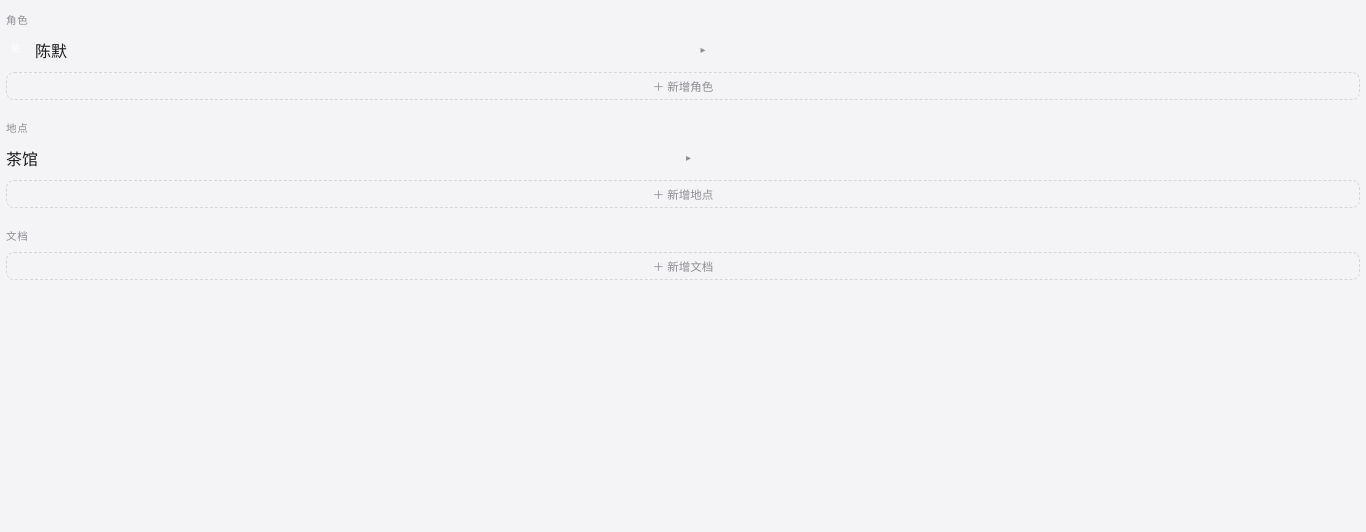
Test: 跨桶同 id 共存（PR #97 评审：独立 id 空间，数据模型 §8.1） › 点击地点展开钮只展开地点表单，不同时展开同 id 角色表单
Click the button named "编辑地点 茶馆": point(688, 158) left=681, top=151, right=696, bottom=165
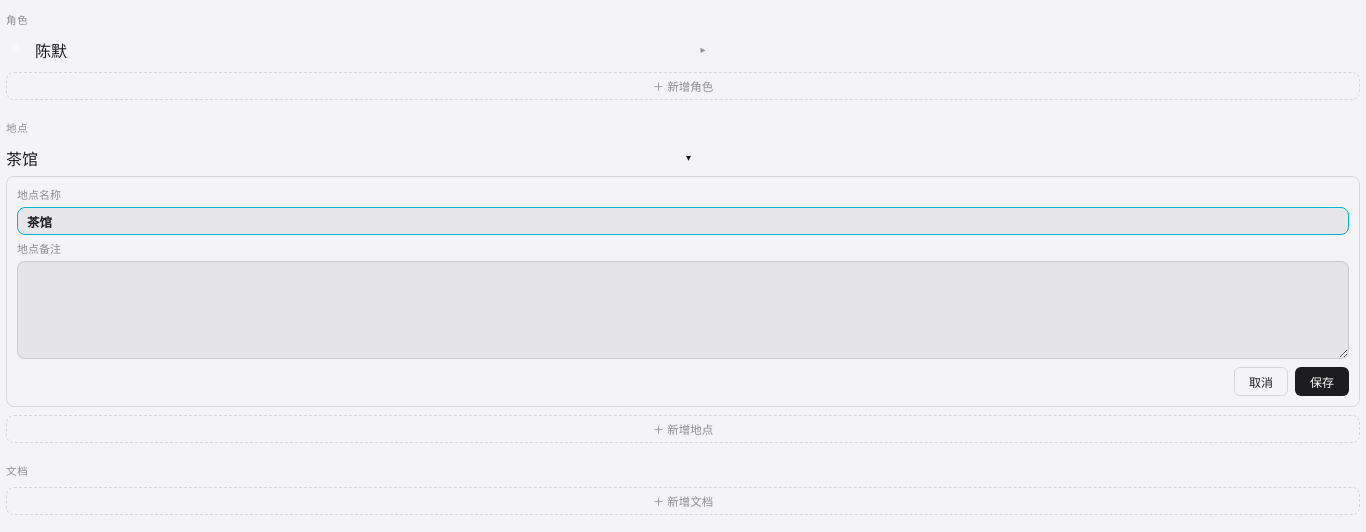
Expected: the field labelled "地点名称" is shown, left=17, top=207, right=1349, bottom=235
